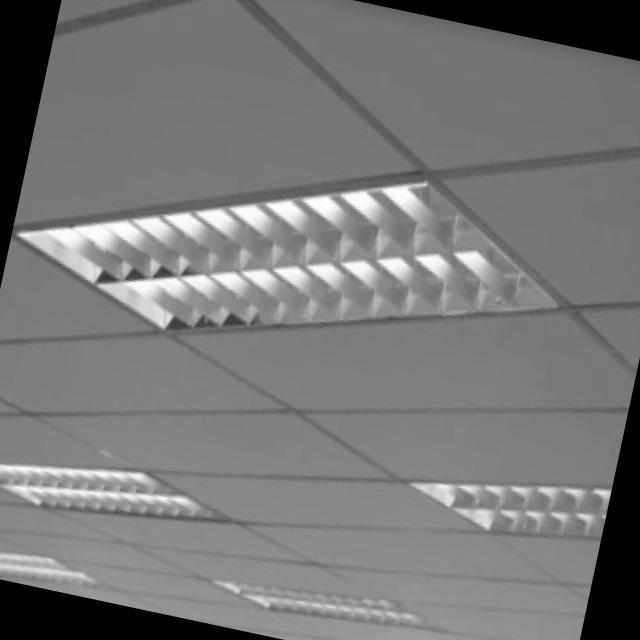light: (14, 174, 556, 331), (0, 462, 242, 526), (215, 566, 439, 631), (404, 484, 610, 542), (0, 554, 104, 586)
